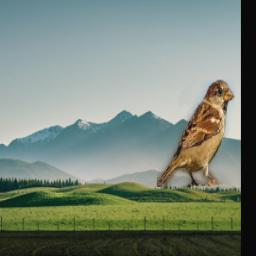Sparrow: (156, 80, 234, 187)
